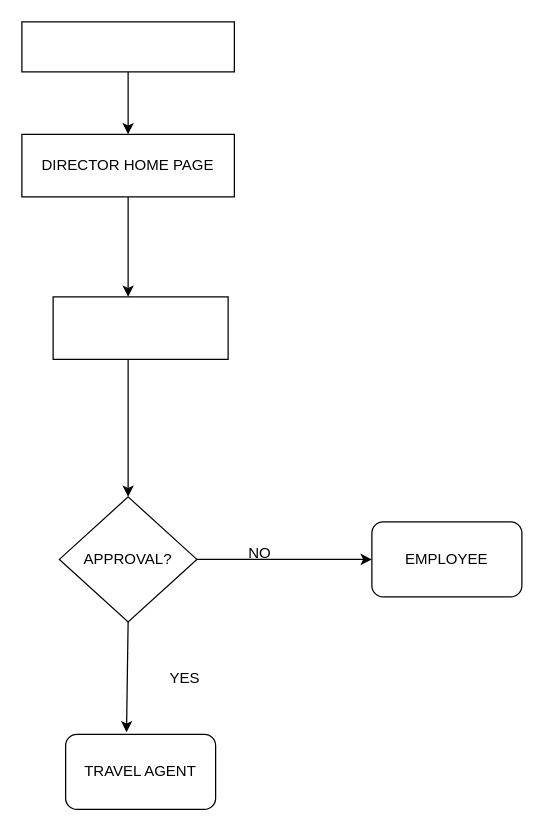
The diagram is 544 pixels wide and 831 high, and some of its shapes have lost their labels. Here are the shapes that lost their labels. From the top down, the centre of each, then its label:
At point (127, 46): "LOGIN".
At point (140, 327): "VIEW THE REJECTED REQUESTS OF TRAVEL AGENT".
